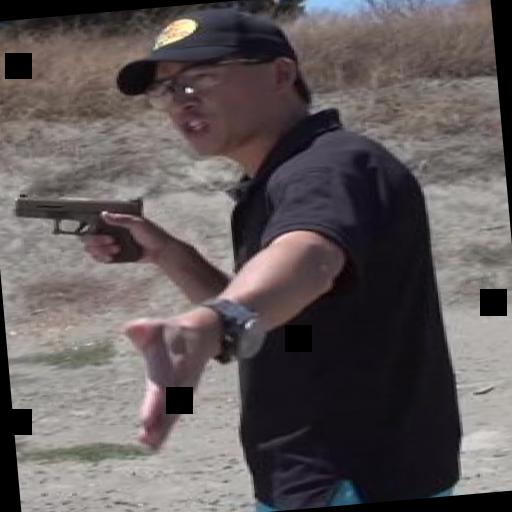Handgun: (6, 184, 154, 272)
